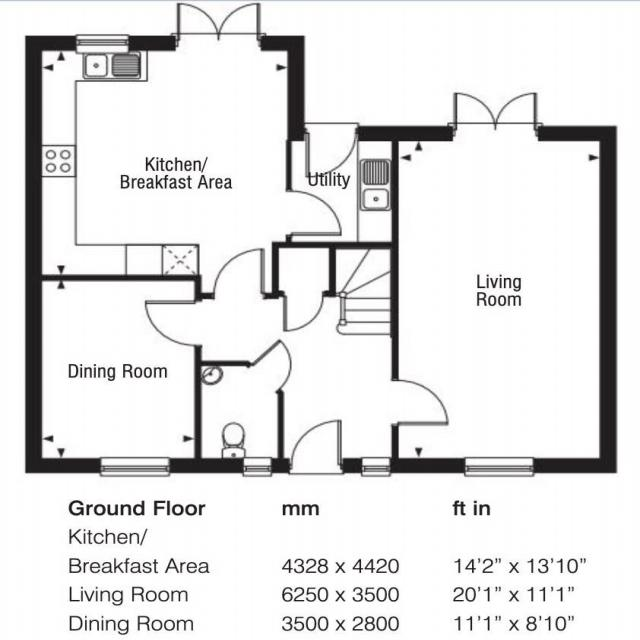DOOR: (287, 417, 346, 476), (303, 121, 361, 179), (390, 378, 452, 428), (211, 247, 268, 300), (143, 298, 203, 348), (286, 188, 344, 238), (247, 337, 293, 394)
DOUBLE DOOR: (450, 90, 540, 142), (172, 1, 263, 51)
ROOM: (24, 2, 344, 300), (390, 91, 618, 478), (24, 274, 202, 478)
WINDOW: (99, 456, 171, 478), (462, 456, 535, 477), (74, 33, 130, 55), (360, 456, 392, 478), (241, 456, 273, 478)
